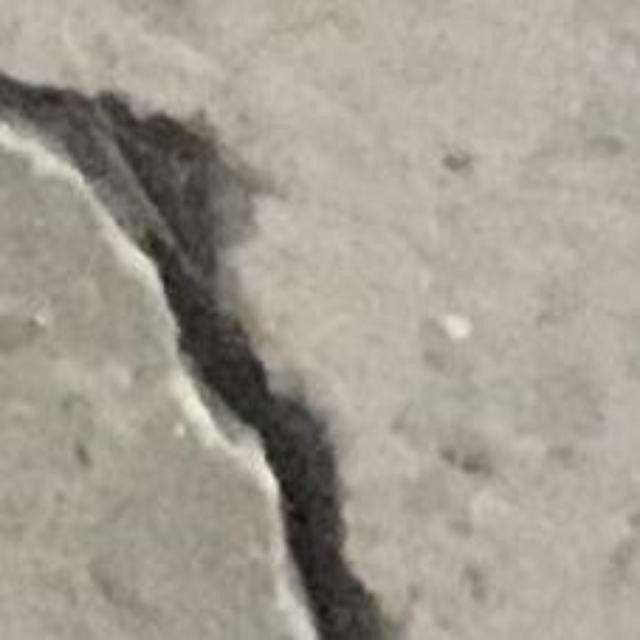crack: (0, 74, 389, 639)
